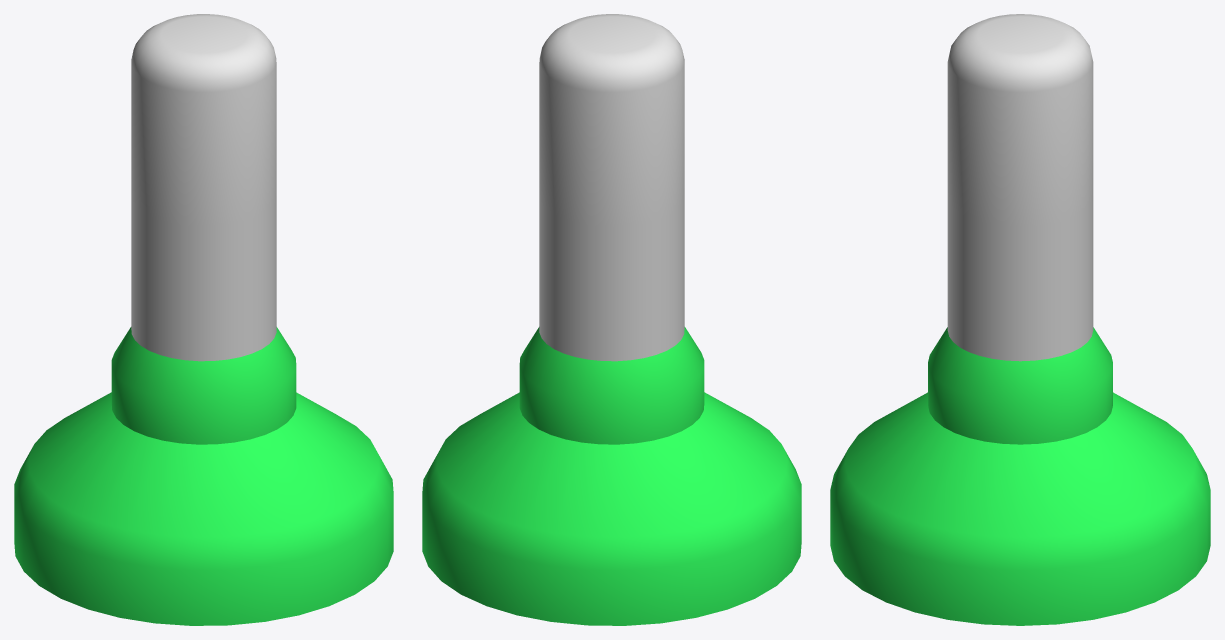
File: LID_Animation.fbx
3 views of the same model, side by side, from view 1: azimuth 30°, elevation 25°; view 2: azimuth 150°, elevation 25°; view 3: azimuth 270°, elevation 25° (orthographic).
Parts seen in each view (by area): view 1: Cylinder.001, Cylinder.003; view 2: Cylinder.001, Cylinder.003; view 3: Cylinder.001, Cylinder.003.
Boxes of the visible parts, x1,y1,x2,y2 form: Cylinder.001: (14, 327, 393, 625); Cylinder.003: (131, 14, 276, 361); Cylinder.001: (422, 327, 801, 625); Cylinder.003: (539, 14, 684, 361); Cylinder.001: (830, 327, 1210, 625); Cylinder.003: (947, 14, 1093, 361).
Size of the model in its own units: 24.63 by 36.49 by 24.63.
